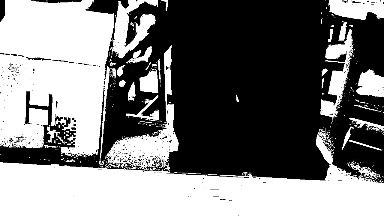H: (21, 89, 54, 125)
